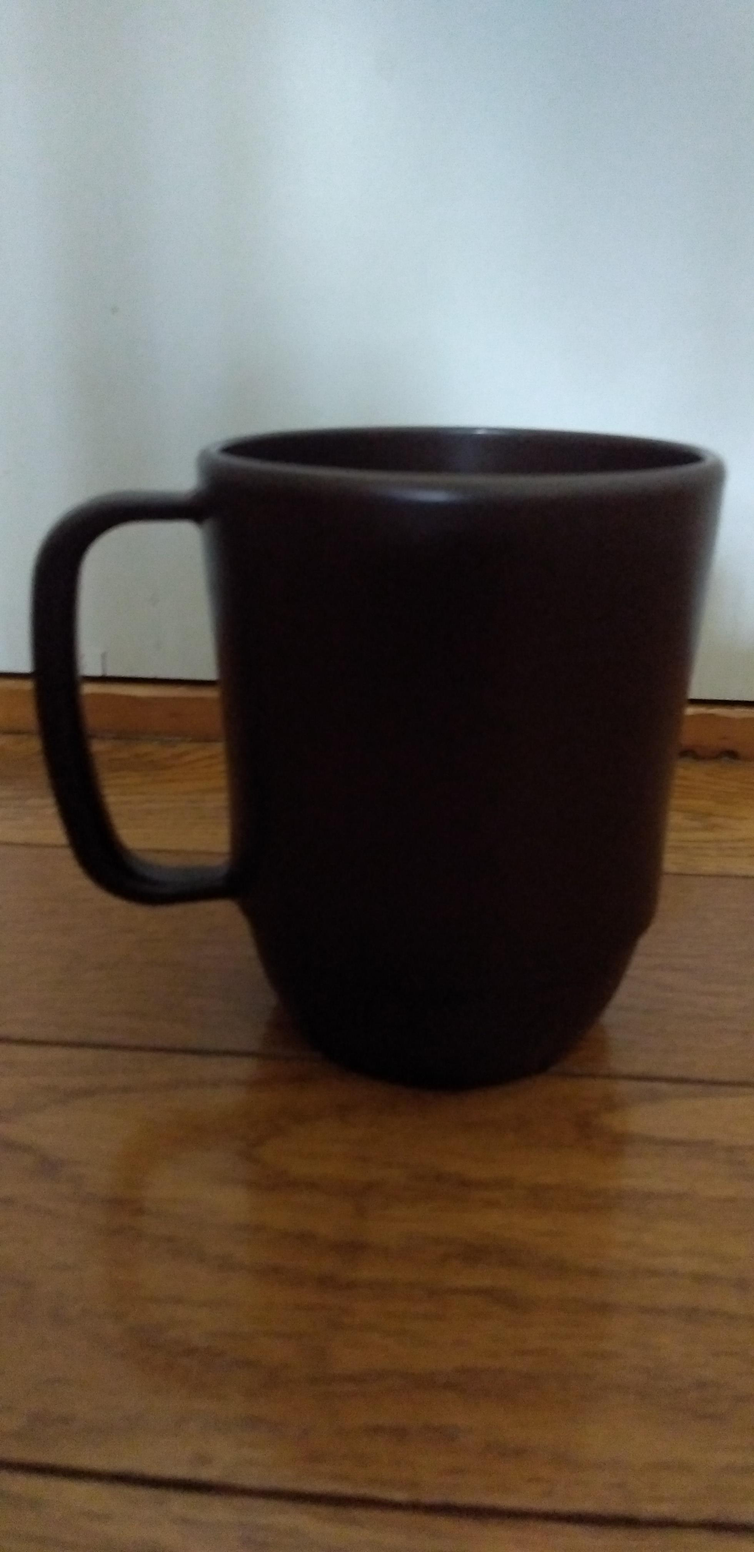mug-real100-3d100: (32, 423, 724, 1091)
